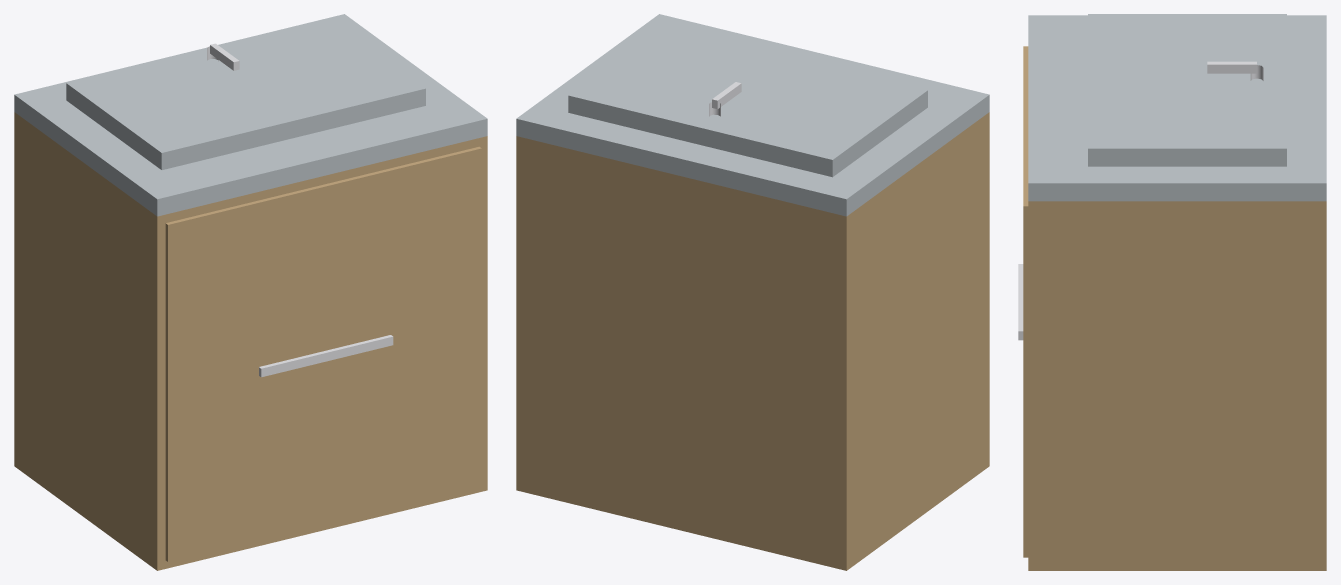
The model's file is kitchen-sink.glb.
3 renders of one model, left to right at view 1: azimuth 30°, elevation 25°; view 2: azimuth 150°, elevation 25°; view 3: azimuth 270°, elevation 25°, orthographic. The views are drawn at different scales.
Size of the model in its own units: 0.8 by 0.94 by 0.62.
